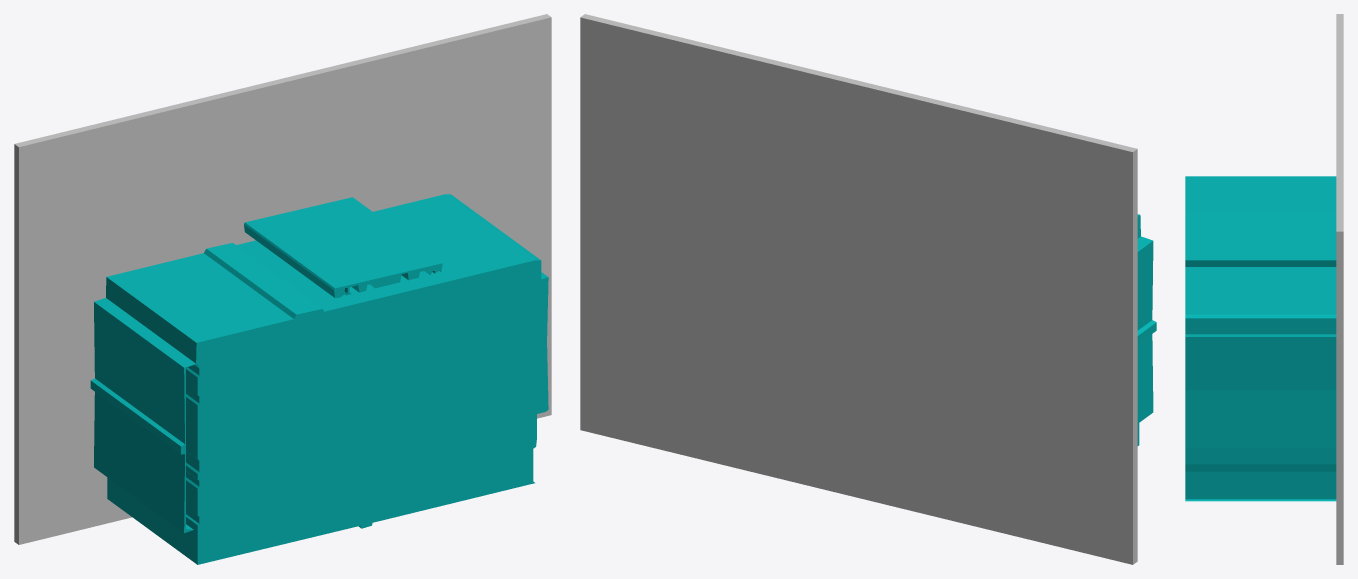
The picture shows the model from 3 angles, left to right: view 1: azimuth 30°, elevation 25°; view 2: azimuth 150°, elevation 25°; view 3: azimuth 270°, elevation 25°; orthographic projection. The views are drawn at different scales.
Visible parts, largest first — view 1: world; view 2: world; view 3: world.
Part boxes in pixels (<box>): world: <box>14,14,551,564</box>; world: <box>580,14,1156,564</box>; world: <box>1185,14,1343,564</box>.
Size of the model in its own units: 10.23 by 7.3 by 3.15.
